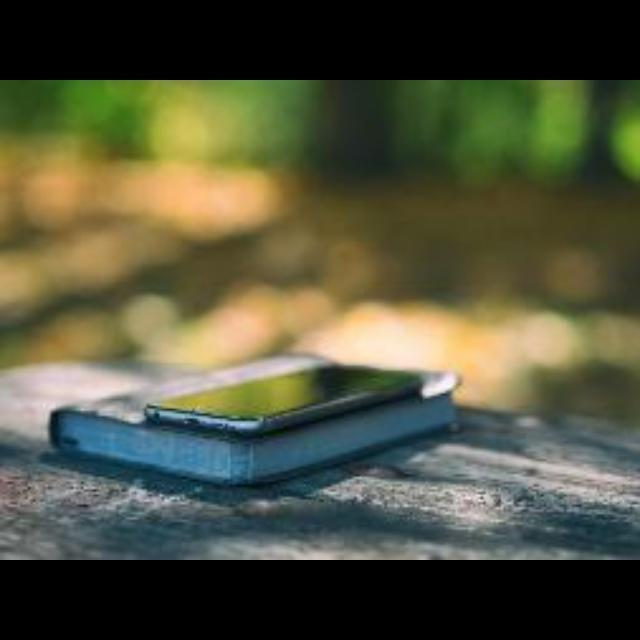phone: (121, 353, 437, 446)
